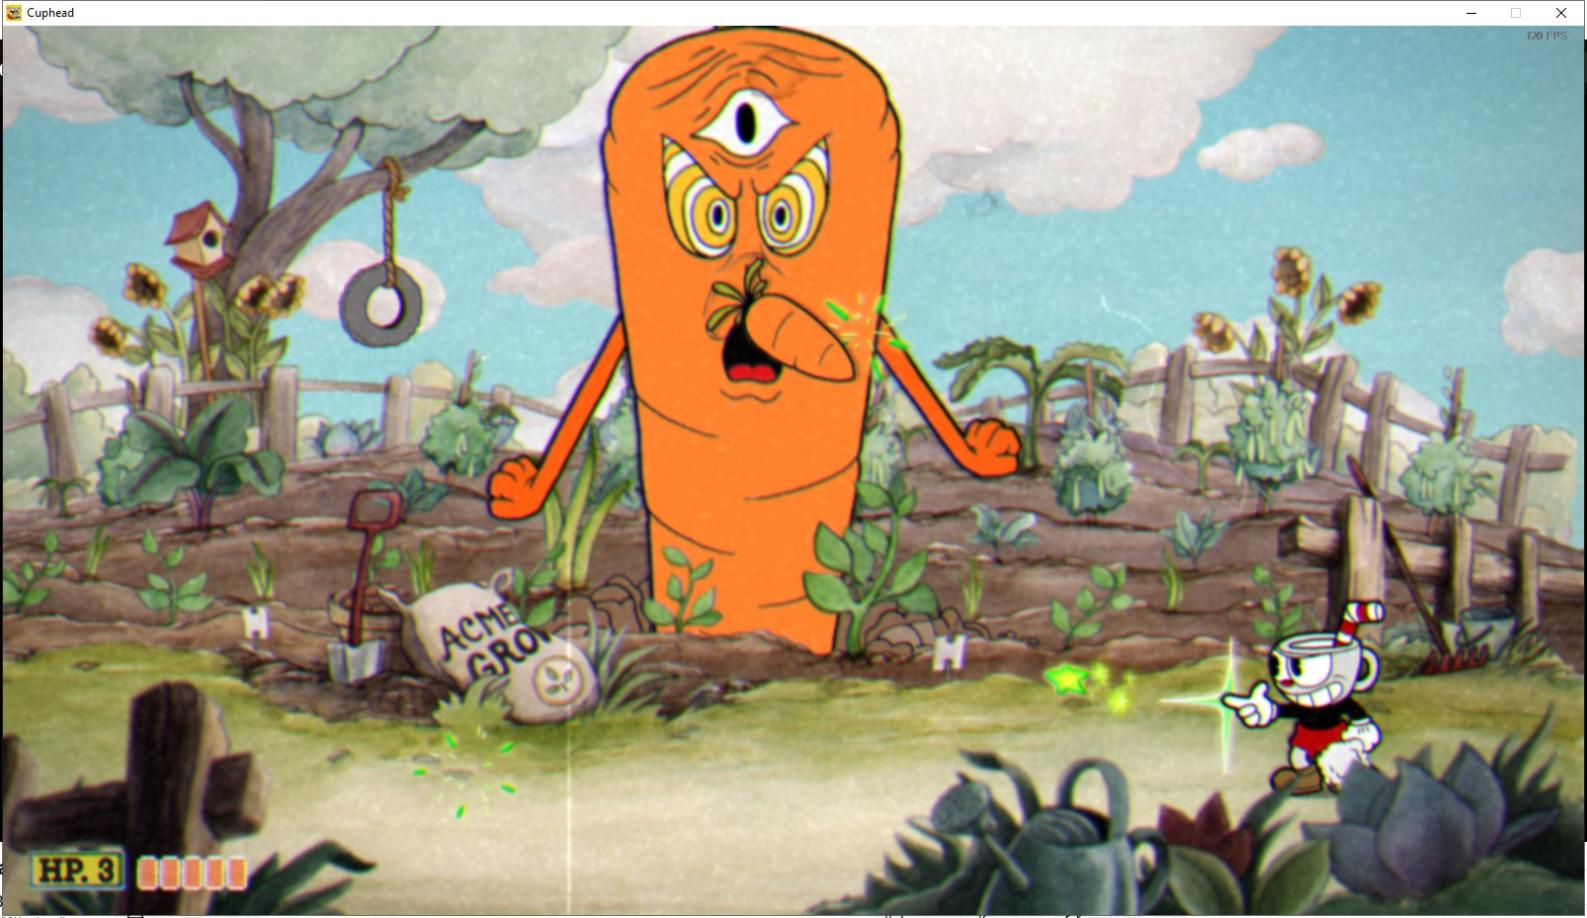carrot: (703, 253, 863, 388)
hp3: (93, 854, 123, 890)
player: (1212, 588, 1412, 807)
